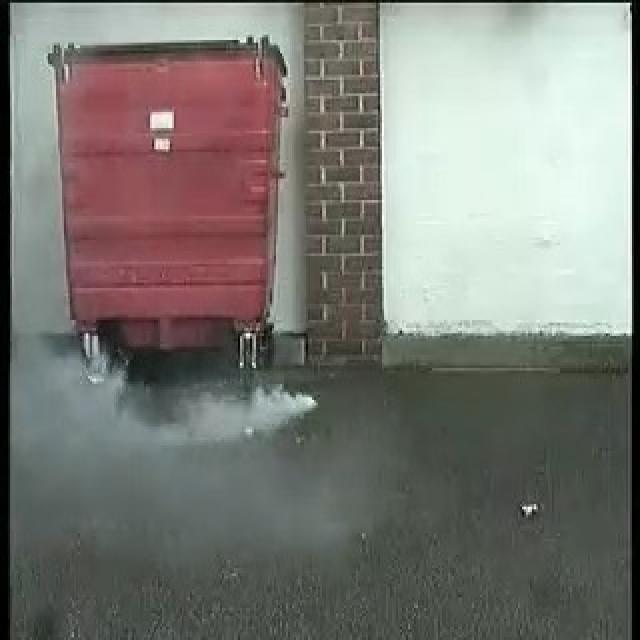smoke: (41, 377, 317, 450)
